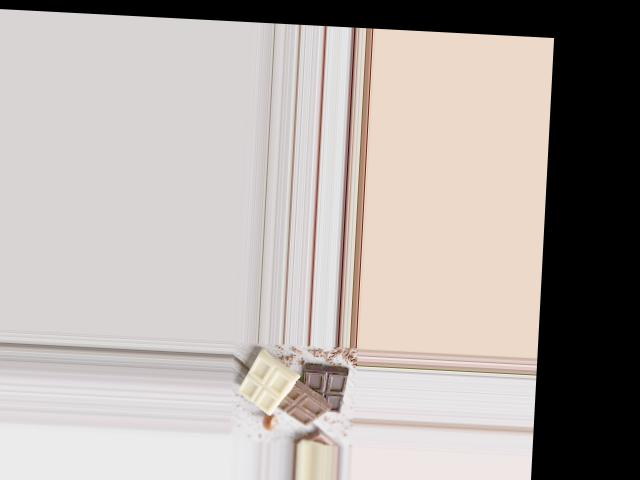chocolate: (237, 354, 354, 428)
